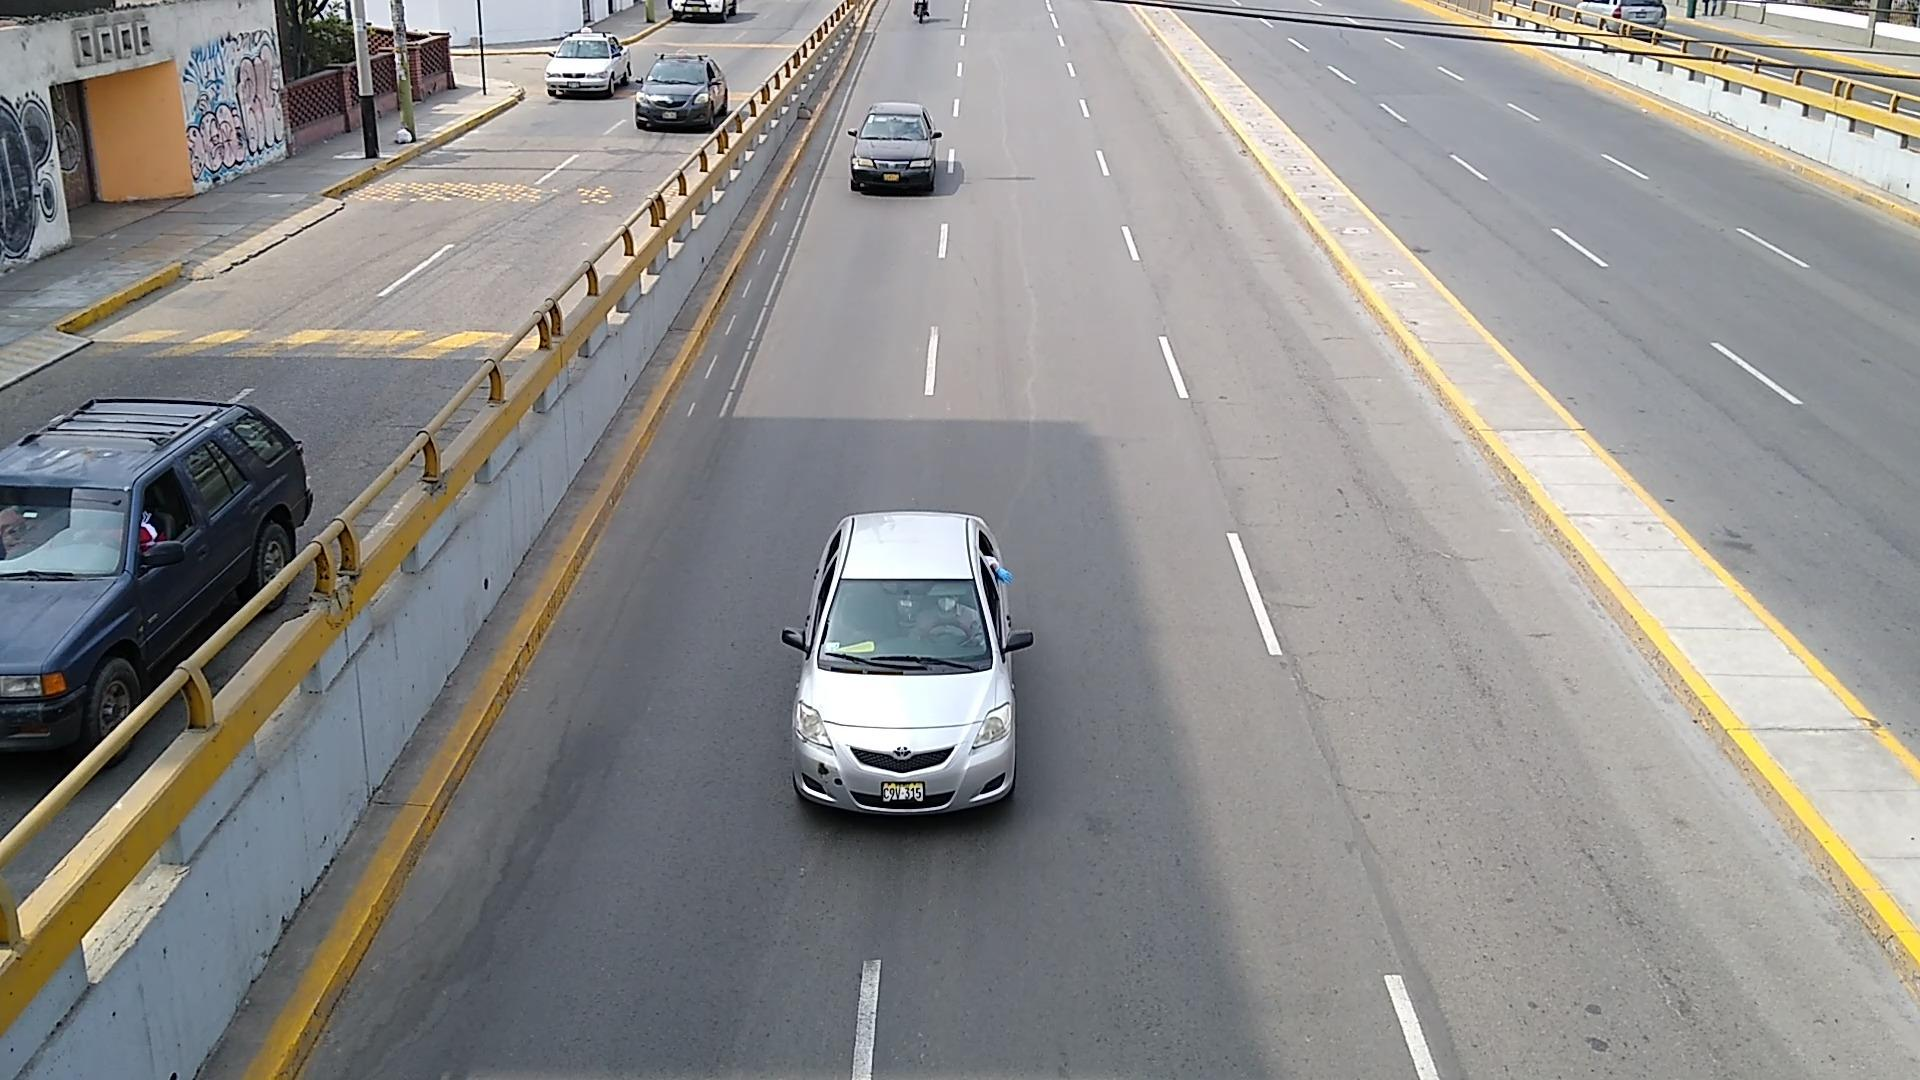car: (0, 397, 311, 748), (783, 510, 1031, 814), (848, 102, 942, 190), (634, 57, 728, 132), (543, 30, 630, 96)
motorcyclist: (915, 0, 930, 21)
